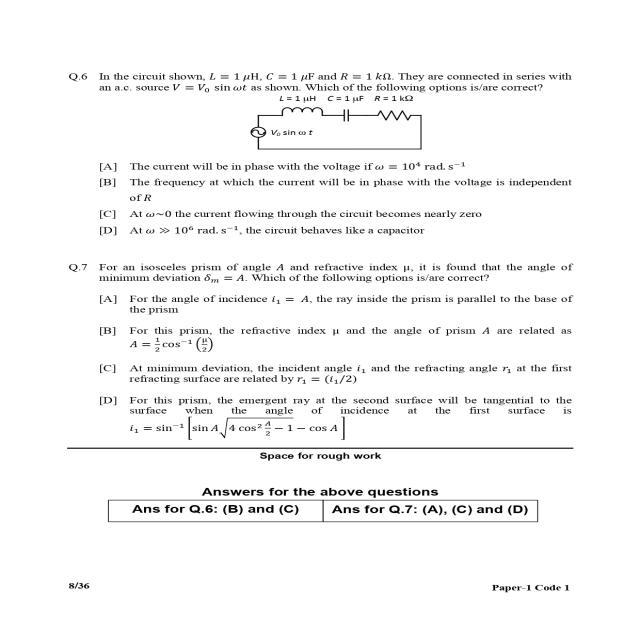Answer_Block: (62, 290, 600, 450), (62, 158, 600, 255)
Question_Answer_Block: (62, 48, 600, 252), (62, 260, 600, 450)
Question_Block: (62, 48, 600, 160), (62, 260, 600, 288)
Question_Paper_Area: (62, 48, 600, 560)
